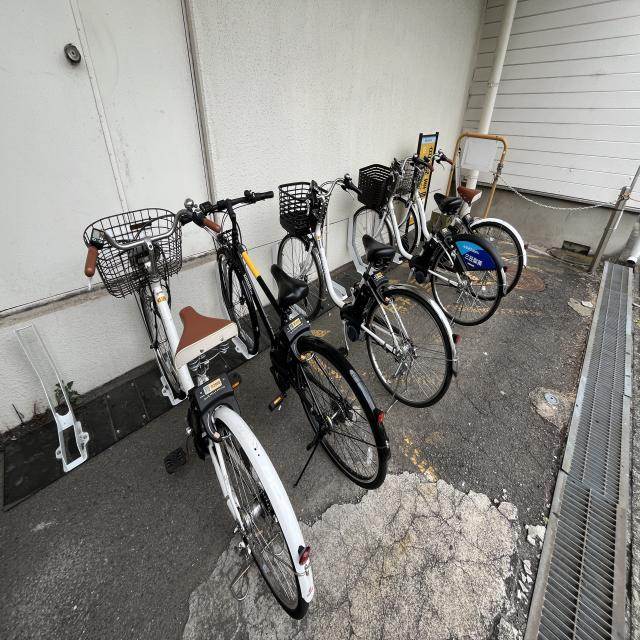basket: (82, 204, 185, 298), (276, 179, 332, 238), (356, 162, 396, 210)
battery: (352, 285, 374, 318), (277, 331, 295, 368), (420, 236, 438, 264)
